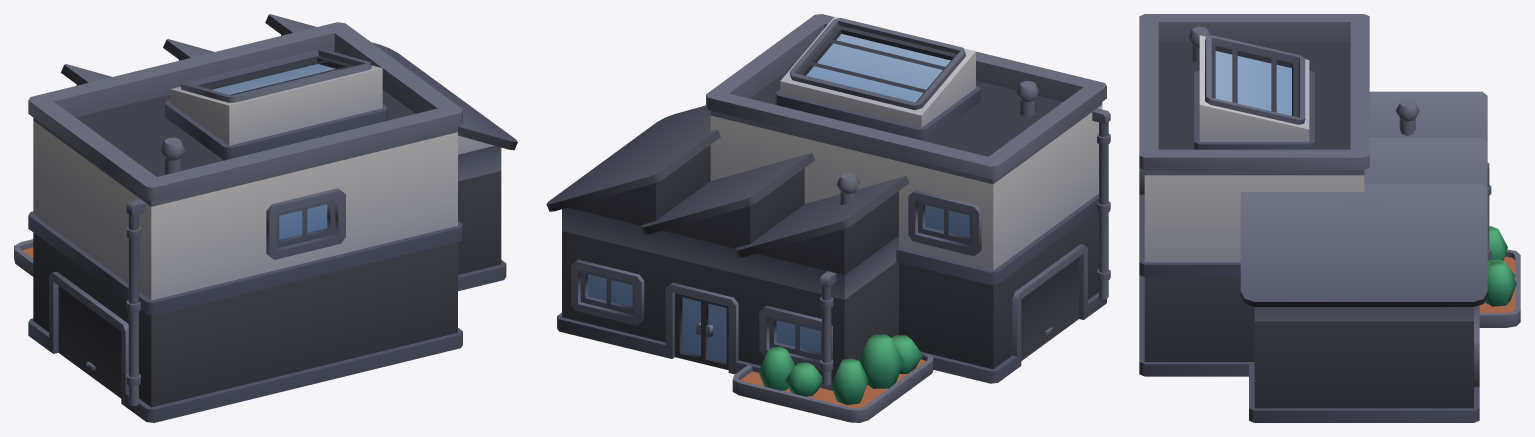
Rendered from building-t.glb.
The picture shows the model from 3 angles, left to right: view 1: azimuth 30°, elevation 25°; view 2: azimuth 150°, elevation 25°; view 3: azimuth 270°, elevation 25°; orthographic projection. The views are drawn at different scales.
Visible parts, largest first — view 1: building-t; view 2: building-t; view 3: building-t.
Part boxes in pixels (box(x1,y1,x2,y2)): building-t: box(14, 14, 517, 422); building-t: box(546, 14, 1110, 422); building-t: box(1139, 14, 1520, 422).
Bounding box in the file's own units: 1.72 × 1.01 × 1.39.
